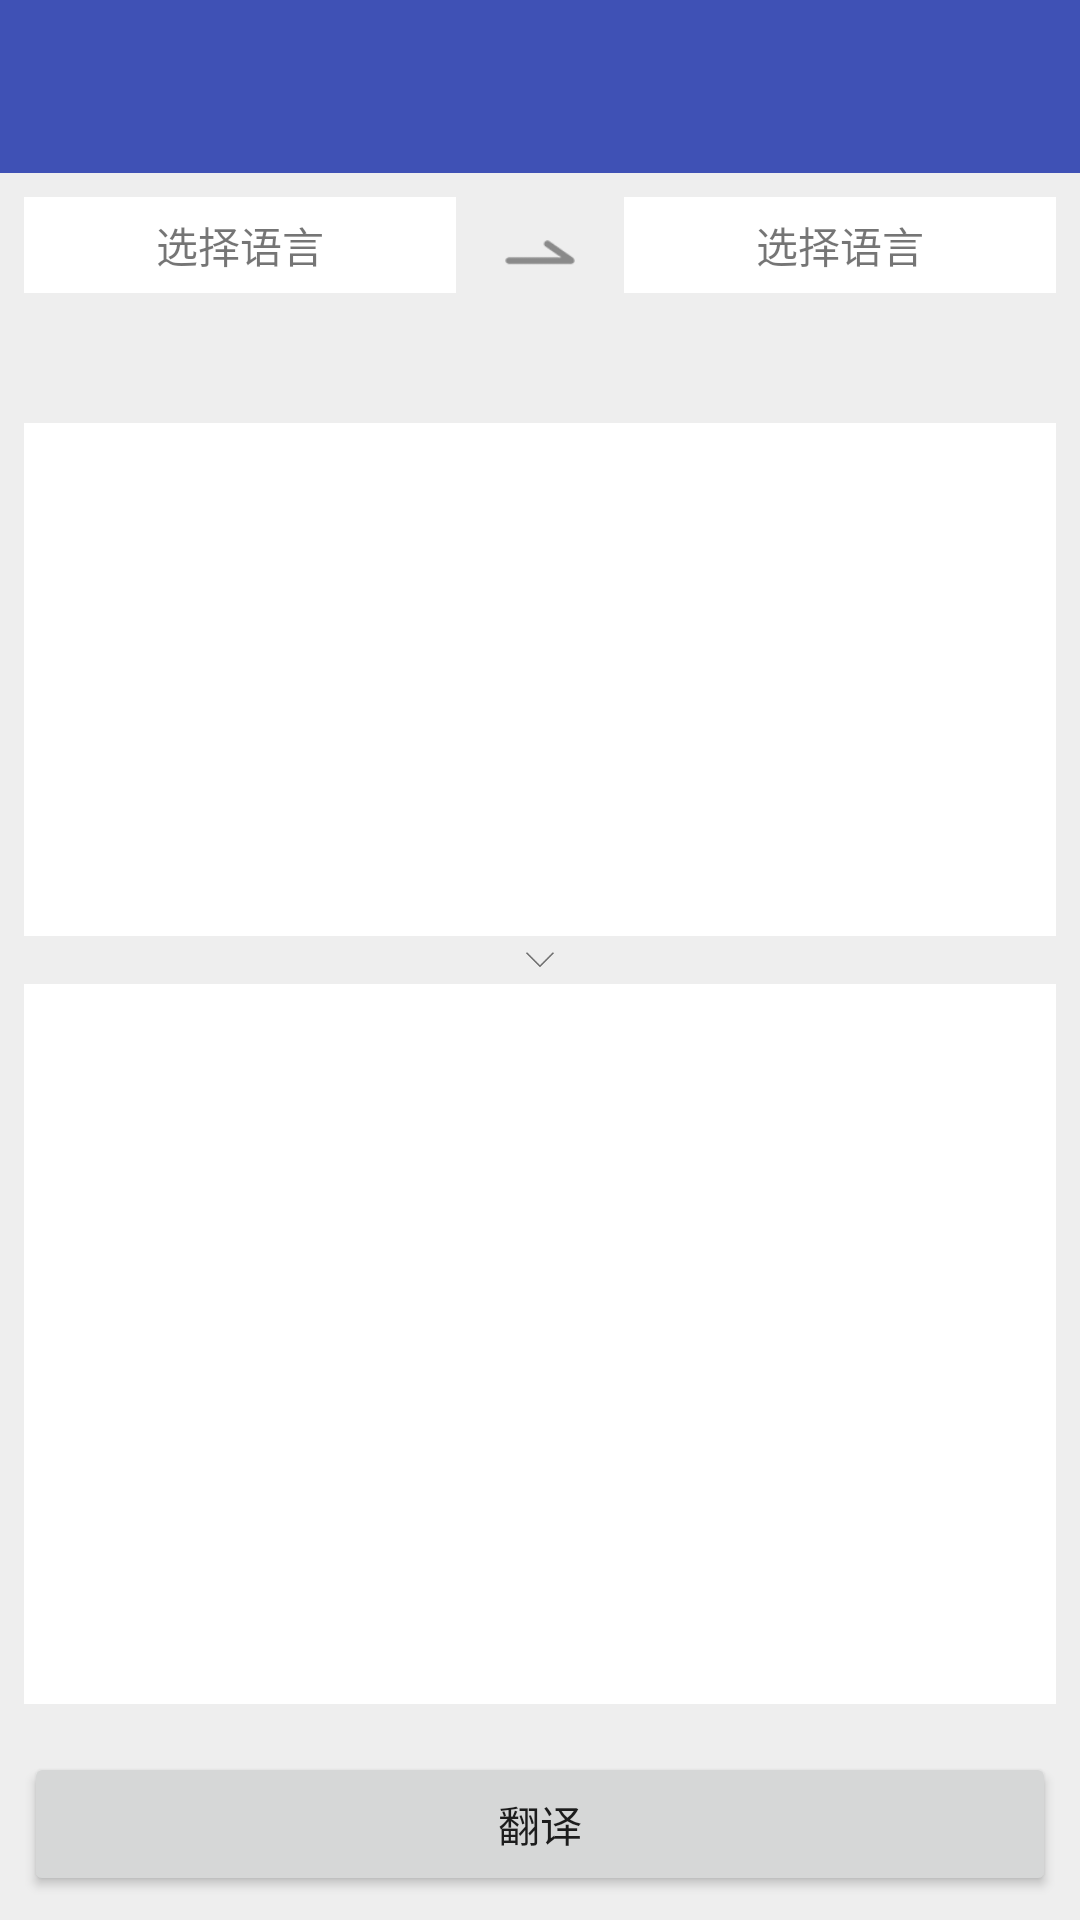

Icons on this 1080 x 1920 Android screen, each with the point to tap as point (x, y):
trans to: point (540, 252)
